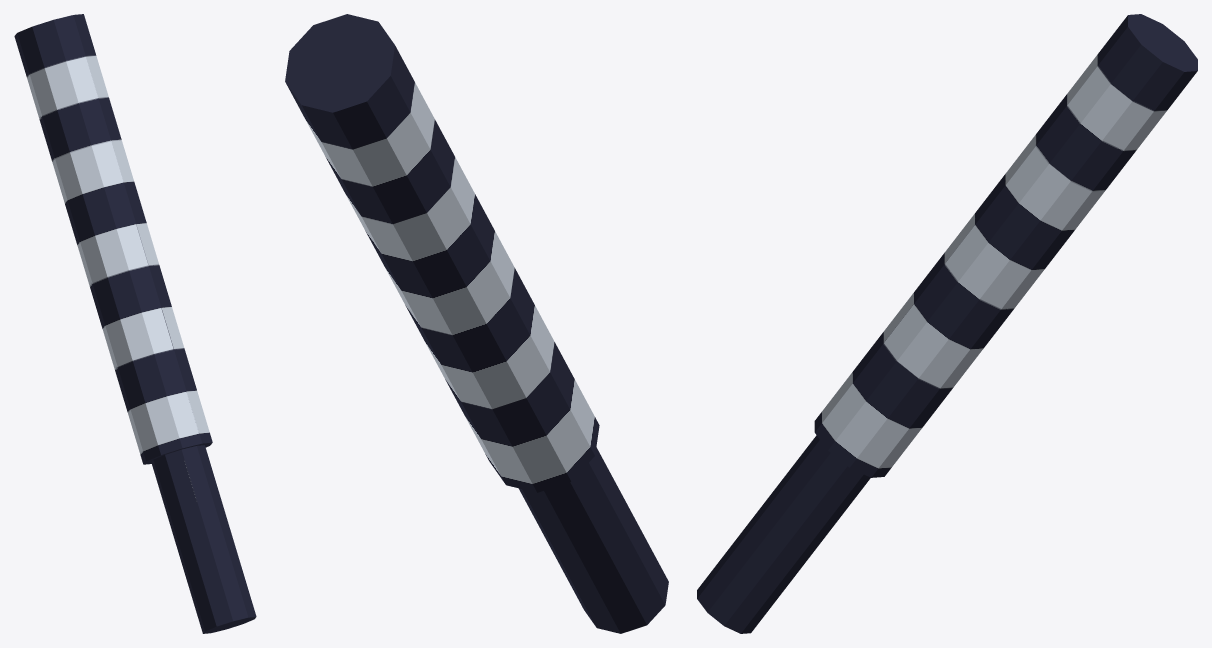
The model's file is police stick.fbx.
The picture shows the model from 3 angles, left to right: view 1: azimuth 30°, elevation 25°; view 2: azimuth 150°, elevation 25°; view 3: azimuth 270°, elevation 25°; orthographic projection. The views are drawn at different scales.
Visible parts, largest first — view 1: pCylinder6; view 2: pCylinder6; view 3: pCylinder6.
Part boxes in pixels (left/top/right/bottom): pCylinder6: left=14, top=14, right=256, bottom=633; pCylinder6: left=285, top=14, right=668, bottom=633; pCylinder6: left=697, top=14, right=1197, bottom=633.
Bounding box in the file's own units: 0.435 × 3.26 × 2.43.
